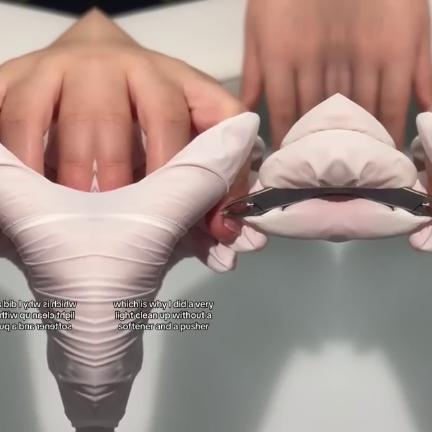Nail: (223, 217, 240, 235)
